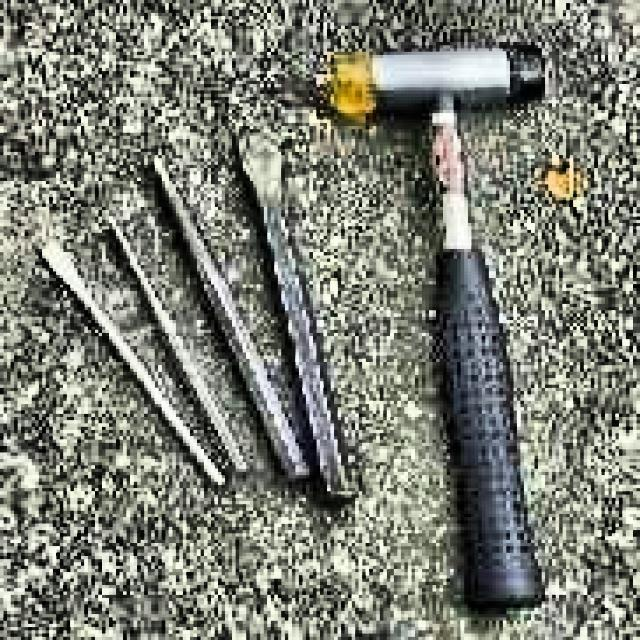hammer: (327, 49, 573, 603)
